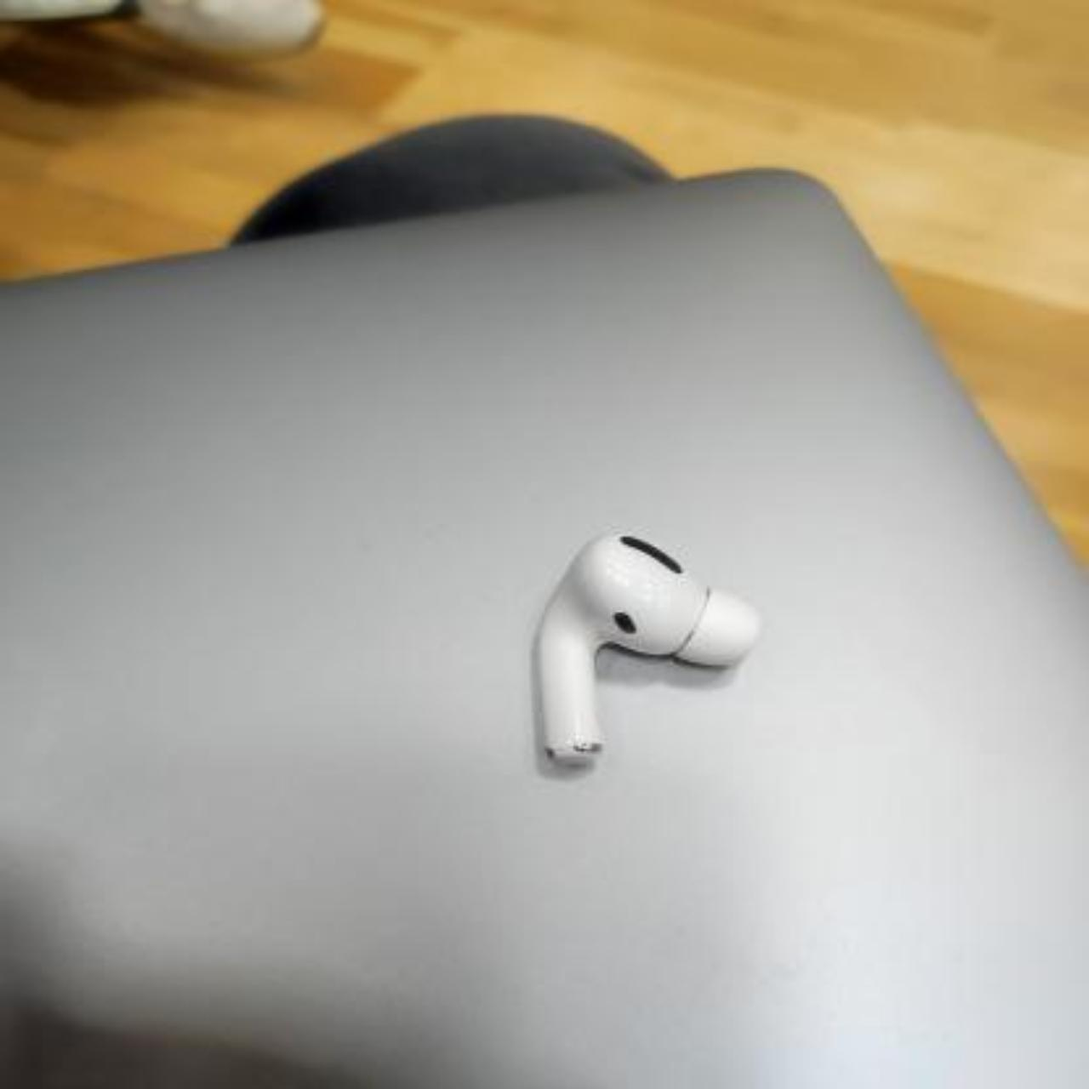Airpods_Units: (532, 543, 761, 784)
